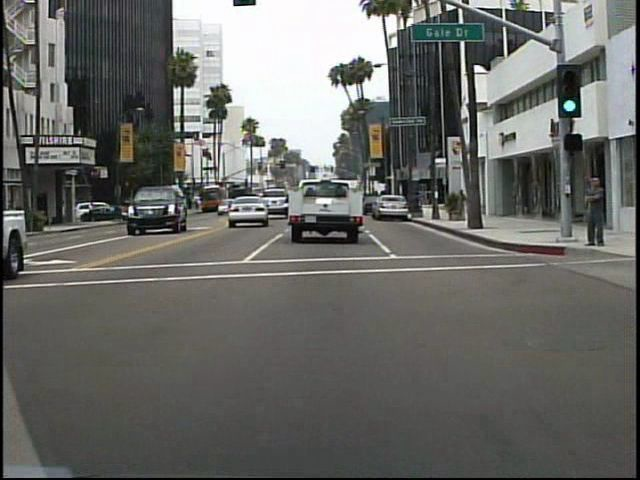person: (580, 168, 607, 254), (453, 185, 470, 219)
